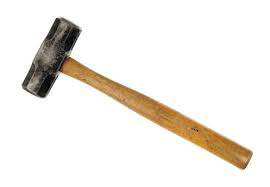hammer: (21, 16, 254, 171)
